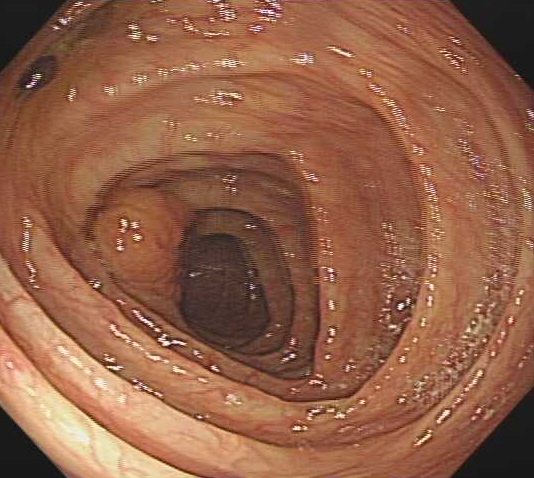adenoma: (89, 184, 196, 293)
